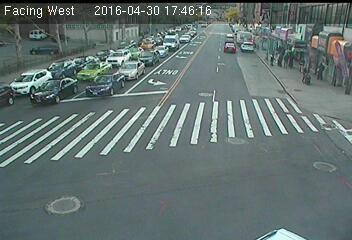neg: (200, 39, 227, 76), (255, 44, 269, 63)
pos: (315, 59, 330, 80)
